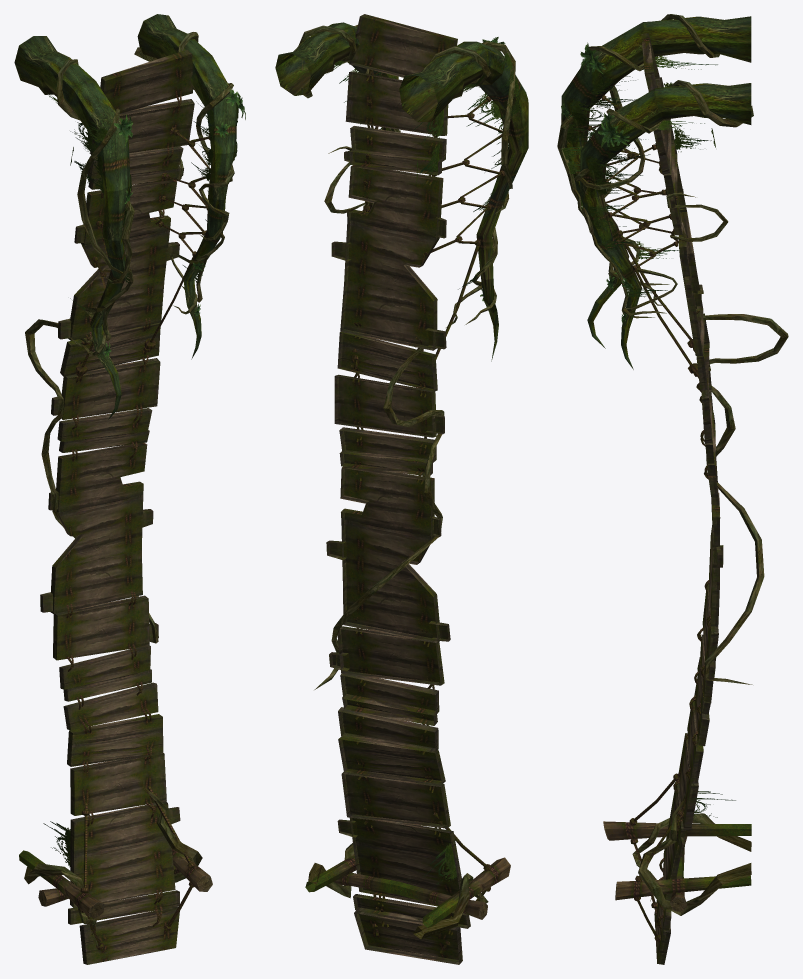
Rendered from jingling01_qiao05.obj.
The picture shows the model from 3 angles, left to right: view 1: azimuth 30°, elevation 25°; view 2: azimuth 150°, elevation 25°; view 3: azimuth 270°, elevation 25°; orthographic projection. The views are drawn at different scales.
Visible parts, largest first — view 1: jingling01_qiao05; view 2: jingling01_qiao05; view 3: jingling01_qiao05.
Boxes of the visible parts, box(x1,y1,x2,y2) form: jingling01_qiao05: box(14, 14, 245, 964); jingling01_qiao05: box(275, 14, 528, 964); jingling01_qiao05: box(557, 14, 788, 964).
Size of the model in its own units: 544 by 2751 by 638.
